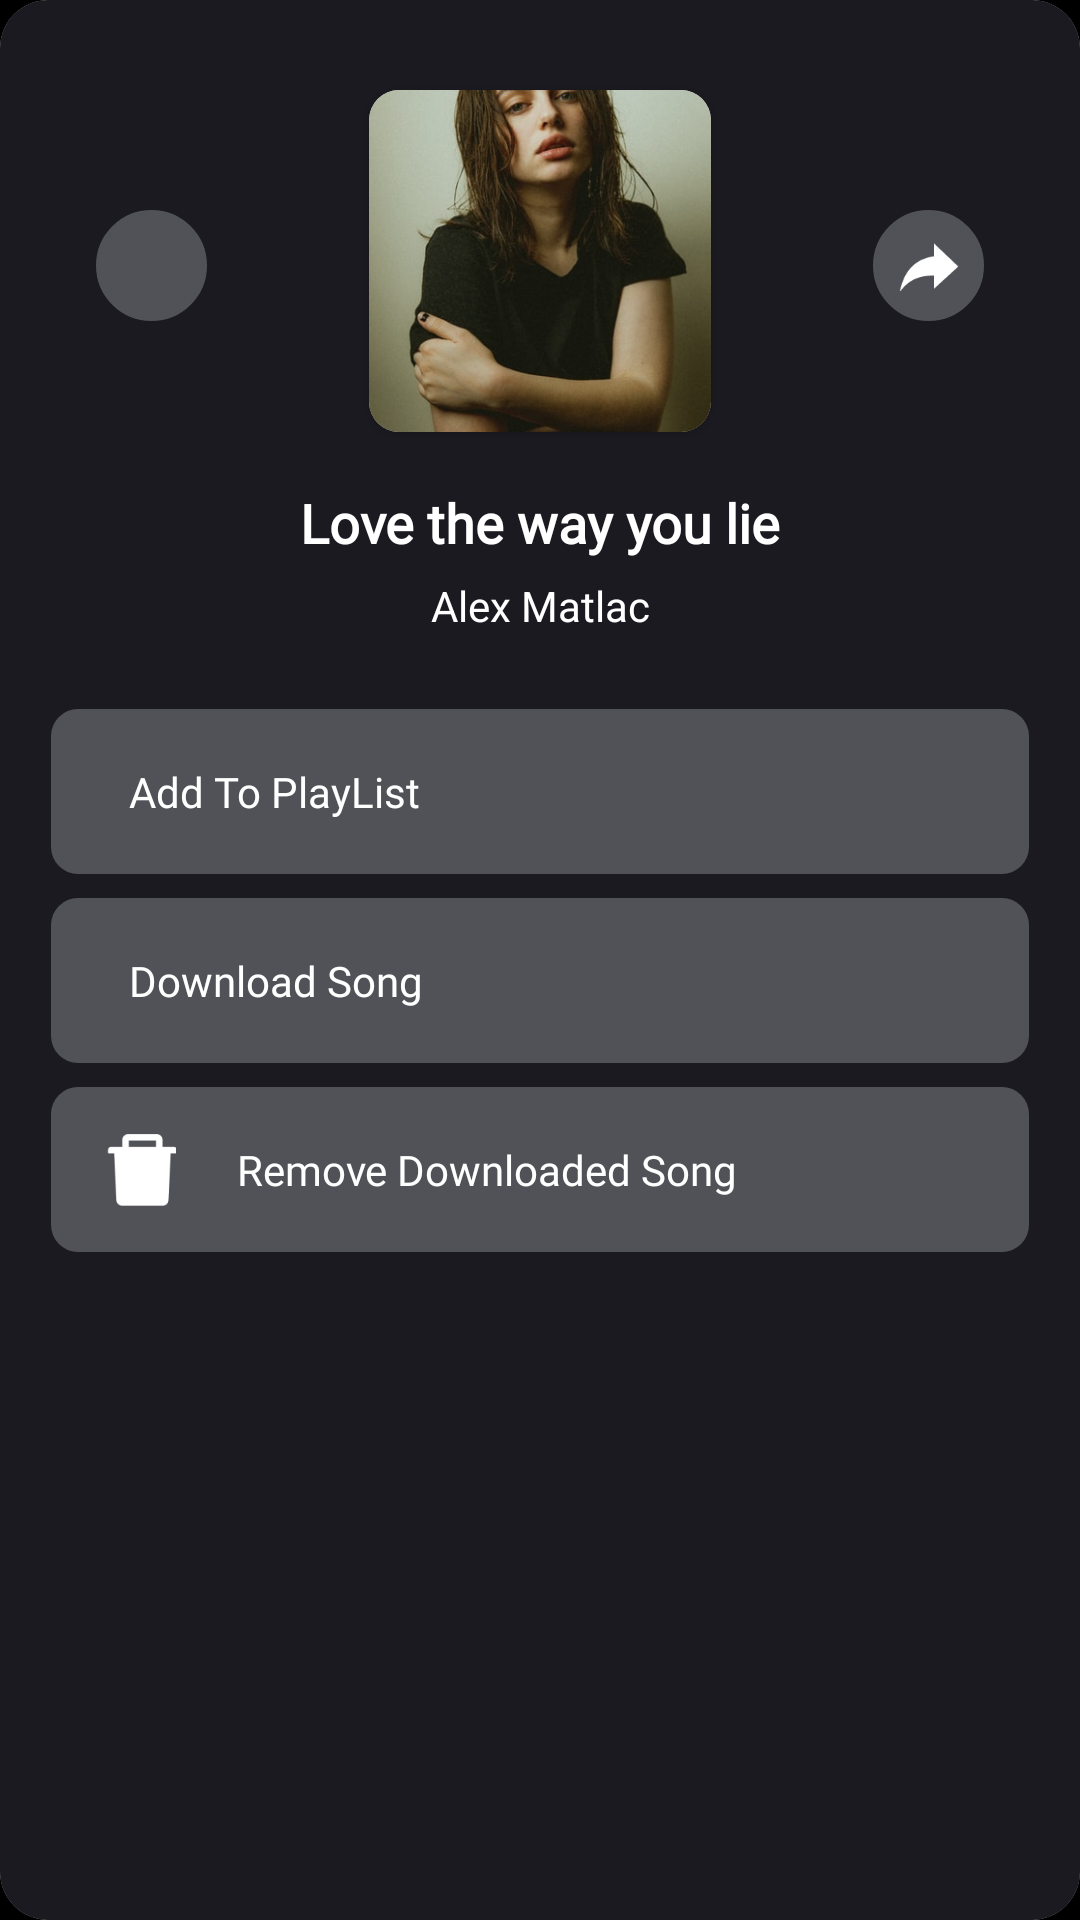

Named icons in this screenshot (1080x1920) and their bounding boxes, (x1, y1, x2, y2):
delete: (107, 1134, 176, 1206)
share: (900, 243, 958, 291)
